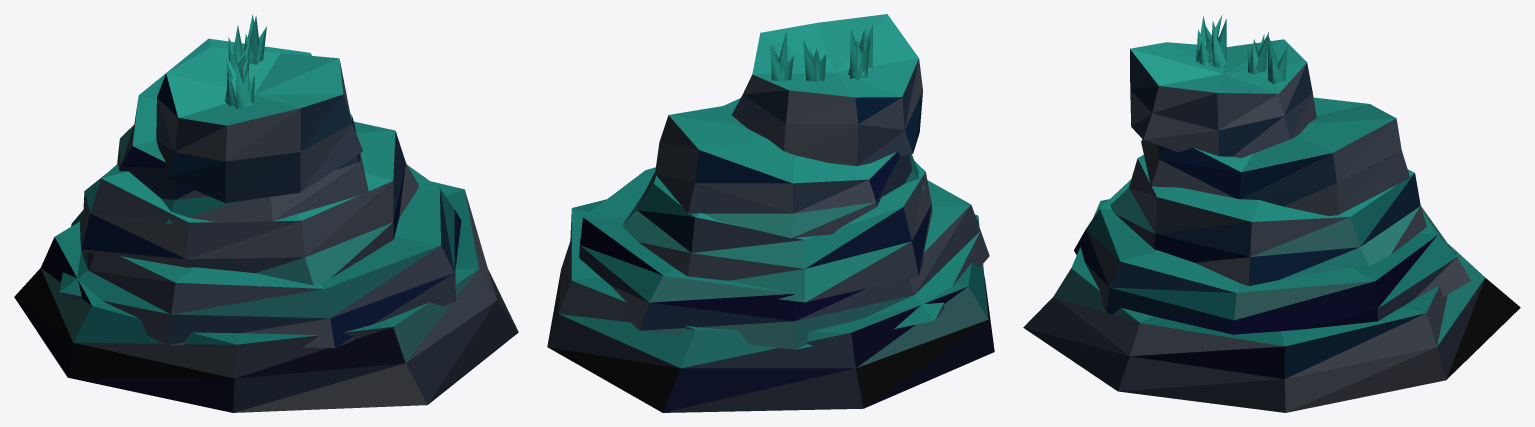
File: batu_slate_basalt_488080.glb
3 renders of one model, left to right at view 1: azimuth 30°, elevation 25°; view 2: azimuth 150°, elevation 25°; view 3: azimuth 270°, elevation 25°, orthographic. The views are drawn at different scales.
Parts seen in each view (by area): view 1: Batu_Pipih_Bertumpuk; view 2: Batu_Pipih_Bertumpuk; view 3: Batu_Pipih_Bertumpuk.
Part boxes in pixels (x1,y1,x2,y2): Batu_Pipih_Bertumpuk: [14, 15, 518, 412]; Batu_Pipih_Bertumpuk: [547, 14, 994, 412]; Batu_Pipih_Bertumpuk: [1023, 15, 1520, 412].
Bounding box in the file's own units: 4.97 × 3.31 × 5.4.
